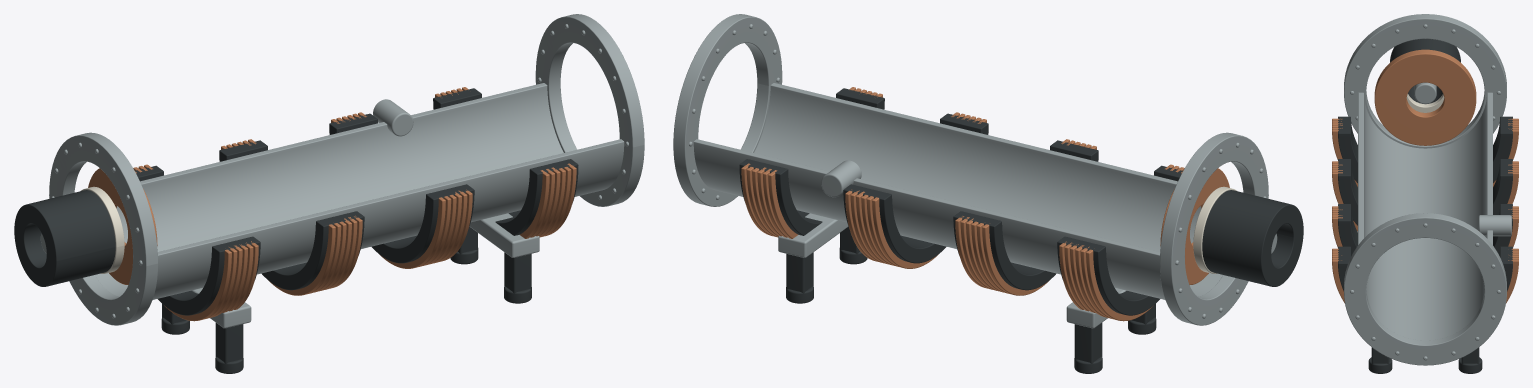
The model's file is centrifuge.glb.
3 renders of one model, left to right at view 1: azimuth 30°, elevation 25°; view 2: azimuth 150°, elevation 25°; view 3: azimuth 270°, elevation 25°, orthographic. The views are drawn at different scales.
Visible parts, largest first — view 1: Cutaway vacuum column, Vacuum flange.001, Vacuum flange, Source body, Solenoid former.002, Solenoid former.003, Solenoid former.001, Solenoid former, Support saddle.001, Arc anode, Support upright, Support upright.002 (+7 smaller); view 2: Cutaway vacuum column, Vacuum flange.001, Vacuum flange, Source body, Solenoid former.002, Solenoid former.003, Solenoid former.001, Solenoid former, Support saddle.001, Arc anode, Support upright.001, Support upright.003 (+7 smaller); view 3: Cutaway vacuum column, Vacuum flange, Arc anode, Vacuum flange.001, Solenoid former.001, Solenoid former.002, Solenoid former.003, Source body, Solenoid former, Diagnostic port, Exposed solenoid copper, Exposed solenoid copper.012 (+8 smaller).
Part boxes in pixels (left/top/right/bottom): Cutaway vacuum column: left=95, top=83, right=624, bottom=299; Vacuum flange.001: left=49, top=132, right=157, bottom=325; Vacuum flange: left=535, top=14, right=644, bottom=206; Source body: left=14, top=190, right=115, bottom=286; Solenoid former.002: left=219, top=140, right=364, bottom=290; Solenoid former.003: left=329, top=113, right=474, bottom=263; Solenoid former.001: left=135, top=165, right=260, bottom=315; Solenoid former: left=433, top=88, right=578, bottom=235; Support saddle.001: left=469, top=213, right=539, bottom=257; Arc anode: left=88, top=168, right=157, bottom=284; Support upright: left=215, top=323, right=243, bottom=363; Support upright.002: left=504, top=252, right=531, bottom=293; Cutaway vacuum column: left=693, top=83, right=1222, bottom=299; Vacuum flange.001: left=1160, top=132, right=1268, bottom=325; Vacuum flange: left=673, top=14, right=782, bottom=206; Source body: left=1202, top=190, right=1303, bottom=286; Solenoid former.002: left=953, top=140, right=1098, bottom=290; Solenoid former.003: left=843, top=113, right=988, bottom=263; Solenoid former.001: left=1057, top=165, right=1182, bottom=315; Solenoid former: left=739, top=88, right=884, bottom=235; Support saddle.001: left=778, top=213, right=848, bottom=257; Arc anode: left=1160, top=168, right=1229, bottom=284; Support upright.001: left=1074, top=323, right=1102, bottom=363; Support upright.003: left=786, top=252, right=813, bottom=293; Cutaway vacuum column: left=1358, top=92, right=1492, bottom=340; Vacuum flange: left=1344, top=213, right=1506, bottom=365; Arc anode: left=1374, top=49, right=1476, bottom=145; Vacuum flange.001: left=1344, top=14, right=1506, bottom=148; Solenoid former.001: left=1338, top=116, right=1512, bottom=182; Solenoid former.002: left=1338, top=159, right=1512, bottom=225; Solenoid former.003: left=1338, top=204, right=1512, bottom=254; Source body: left=1390, top=39, right=1460, bottom=103; Solenoid former: left=1338, top=246, right=1512, bottom=291; Diagnostic port: left=1478, top=215, right=1511, bottom=236; Exposed solenoid copper: left=1332, top=259, right=1518, bottom=303; Exposed solenoid copper.012: left=1332, top=172, right=1518, bottom=231.
Size of the model in its own units: 4.6 by 1.82 by 1.58.
